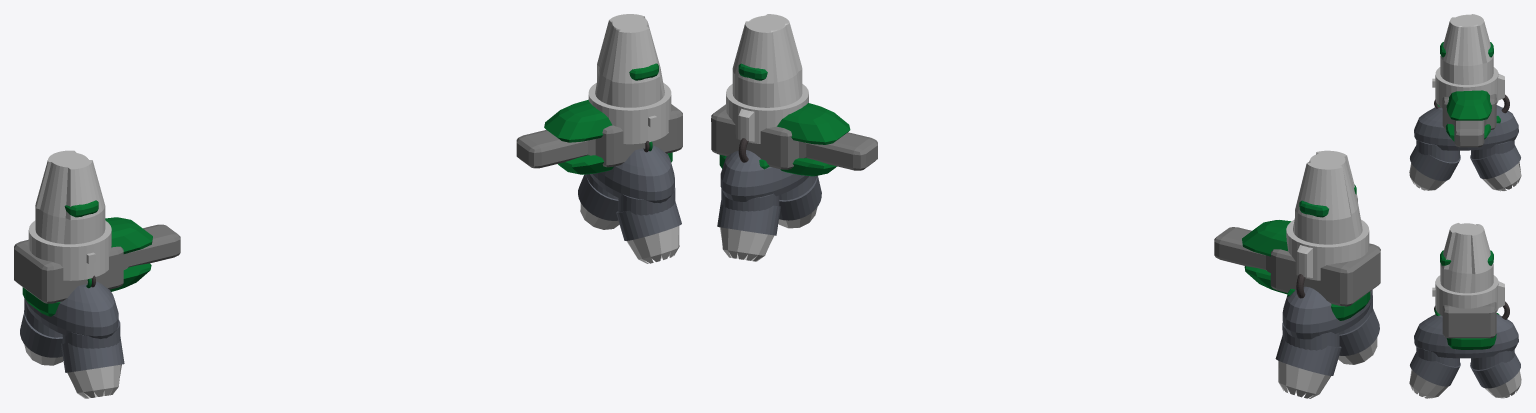
Rendered from jetpack_worn.fbx.
The picture shows the model from 3 angles, left to right: view 1: azimuth 30°, elevation 25°; view 2: azimuth 150°, elevation 25°; view 3: azimuth 270°, elevation 25°; orthographic projection. The views are drawn at different scales.
Parts seen in each view (by area): view 1: Mesh_Jetpack_Tank_L, Mesh_Jetpack_Tank_R, Mesh_Jetpack_Fin_L, Mesh_Jetpack_Fin_R, Mesh_Jetpack_NozzleYoke_L, Mesh_Jetpack_NozzleYoke_R, Mesh_Jetpack_StrutUpper_R, Mesh_Jetpack_NozzleOuterCone_R, Mesh_Jetpack_NozzleOuterCone_L, Mesh_Jetpack_ExhaustOuter_L, Mesh_Jetpack_ExhaustOuter_R, Mesh_Jetpack_StrutUpper_L (+5 smaller); view 2: Mesh_Jetpack_Tank_R, Mesh_Jetpack_Tank_L, Mesh_Jetpack_Fin_L, Mesh_Jetpack_Fin_R, Mesh_Jetpack_NozzleYoke_R, Mesh_Jetpack_NozzleYoke_L, Mesh_Jetpack_StrutUpper_R, Mesh_Jetpack_NozzleInnerCone_L, Mesh_Jetpack_NozzleInnerCone_R, Mesh_Jetpack_ExhaustInner_R, Mesh_Jetpack_ExhaustInner_L, Mesh_Jetpack_StrutUpper_L (+5 smaller); view 3: Mesh_Jetpack_Tank_R, Mesh_Jetpack_Tank_L, Mesh_Jetpack_NozzleYoke_R, Mesh_Jetpack_NozzleYoke_L, Mesh_Jetpack_Fin_R, Mesh_Jetpack_Fin_L, Mesh_Jetpack_StrutUpper_L, Mesh_Jetpack_NozzleOuterCone_R, Mesh_Jetpack_NozzleInnerCone_L, Mesh_Jetpack_NozzleInnerCone_R, Mesh_Jetpack_NozzleOuterCone_L, Mesh_Jetpack_ExhaustOuter_R (+9 smaller).
Part boxes in pixels (x1=…): Mesh_Jetpack_Tank_L: x1=28, y1=150, x2=111, y2=280; Mesh_Jetpack_Tank_R: x1=588, y1=14, x2=671, y2=144; Mesh_Jetpack_Fin_L: x1=14, y1=224, x2=180, y2=303; Mesh_Jetpack_Fin_R: x1=516, y1=104, x2=682, y2=168; Mesh_Jetpack_NozzleYoke_L: x1=23, y1=281, x2=118, y2=338; Mesh_Jetpack_NozzleYoke_R: x1=590, y1=145, x2=674, y2=203; Mesh_Jetpack_StrutUpper_R: x1=544, y1=99, x2=612, y2=142; Mesh_Jetpack_NozzleOuterCone_R: x1=616, y1=201, x2=681, y2=240; Mesh_Jetpack_NozzleOuterCone_L: x1=61, y1=337, x2=124, y2=372; Mesh_Jetpack_ExhaustOuter_L: x1=67, y1=364, x2=121, y2=398; Mesh_Jetpack_ExhaustOuter_R: x1=626, y1=226, x2=679, y2=263; Mesh_Jetpack_StrutUpper_L: x1=105, y1=217, x2=152, y2=253; Mesh_Jetpack_Tank_R: x1=726, y1=14, x2=808, y2=143; Mesh_Jetpack_Tank_L: x1=1286, y1=150, x2=1369, y2=280; Mesh_Jetpack_Fin_L: x1=1214, y1=227, x2=1380, y2=306; Mesh_Jetpack_Fin_R: x1=711, y1=104, x2=877, y2=170; Mesh_Jetpack_NozzleYoke_R: x1=720, y1=150, x2=808, y2=201; Mesh_Jetpack_NozzleYoke_L: x1=1282, y1=286, x2=1372, y2=339; Mesh_Jetpack_StrutUpper_R: x1=777, y1=103, x2=850, y2=144; Mesh_Jetpack_NozzleInnerCone_L: x1=1275, y1=335, x2=1341, y2=375; Mesh_Jetpack_NozzleInnerCone_R: x1=717, y1=200, x2=780, y2=235; Mesh_Jetpack_ExhaustInner_R: x1=719, y1=227, x2=774, y2=261; Mesh_Jetpack_ExhaustInner_L: x1=1278, y1=361, x2=1330, y2=398; Mesh_Jetpack_StrutUpper_L: x1=1242, y1=220, x2=1291, y2=256; Mesh_Jetpack_Tank_R: x1=1432, y1=223, x2=1504, y2=315; Mesh_Jetpack_Tank_L: x1=1432, y1=14, x2=1504, y2=107; Mesh_Jetpack_NozzleYoke_R: x1=1414, y1=314, x2=1518, y2=358; Mesh_Jetpack_NozzleYoke_L: x1=1414, y1=105, x2=1518, y2=150; Mesh_Jetpack_Fin_R: x1=1442, y1=302, x2=1496, y2=338; Mesh_Jetpack_Fin_L: x1=1442, y1=94, x2=1496, y2=147; Mesh_Jetpack_StrutUpper_L: x1=1446, y1=90, x2=1491, y2=120; Mesh_Jetpack_NozzleOuterCone_R: x1=1410, y1=352, x2=1460, y2=386; Mesh_Jetpack_NozzleInnerCone_L: x1=1470, y1=145, x2=1520, y2=178; Mesh_Jetpack_NozzleInnerCone_R: x1=1470, y1=353, x2=1520, y2=388; Mesh_Jetpack_NozzleOuterCone_L: x1=1410, y1=145, x2=1460, y2=180; Mesh_Jetpack_ExhaustOuter_R: x1=1409, y1=369, x2=1448, y2=398.
Size of the model in its own units: 200 by 65.69 by 39.73.
